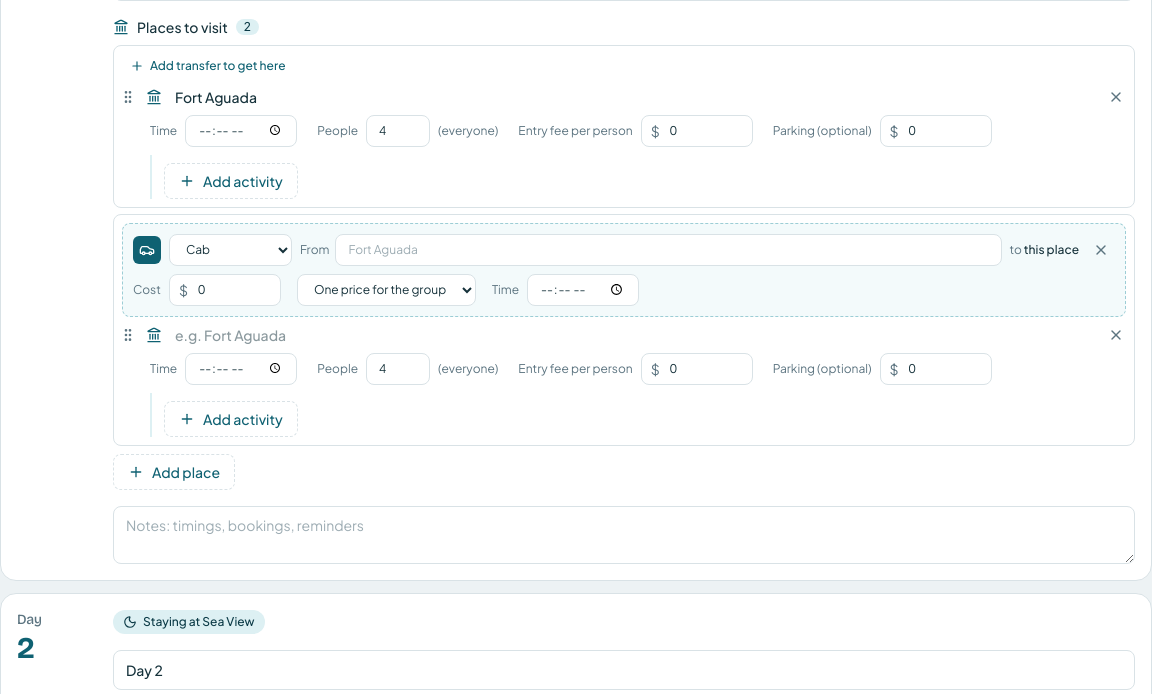
Scenario: Choosing a hotel as a stop or a transfer start › filters suggestions as you type and still accepts free text
The image size is (1152, 694).
(page scrolled)
Type "city" into the dropdown named "Day 1 place 2".
click(632, 334); type("city")  # box [166, 316, 1098, 352]
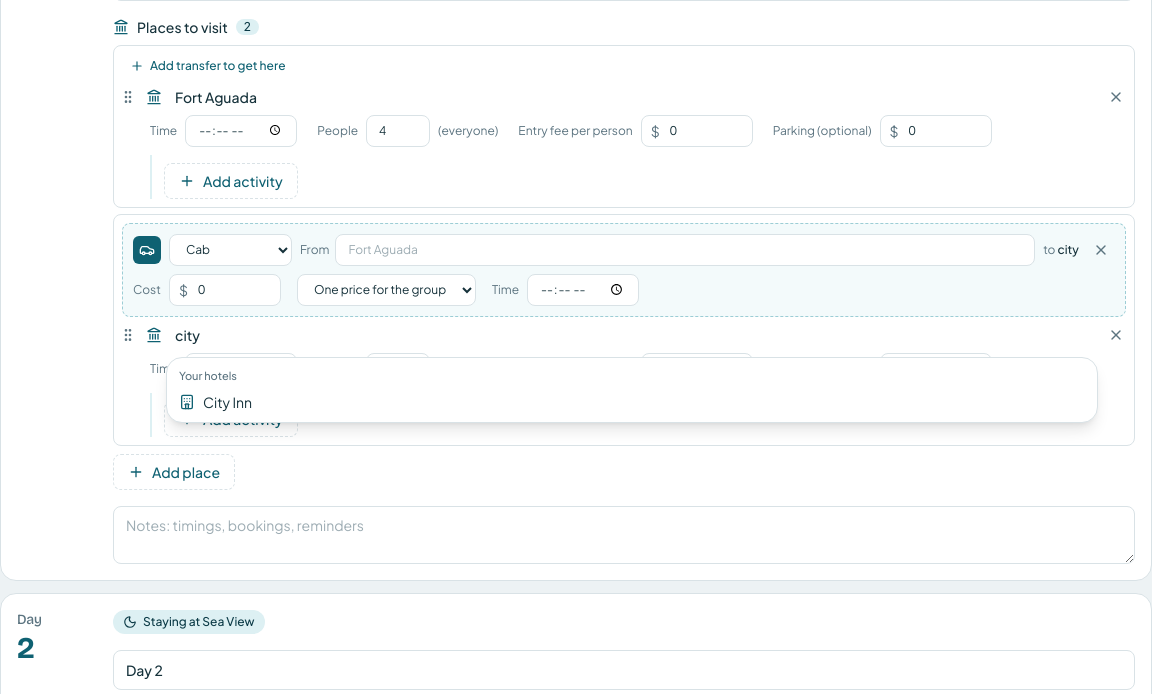
Now the options read "City Inn", in this order, box [179, 393, 252, 411]
Replace the text in the dropdown named "Day 1 place 2" with "Hotel California" at coordinates (632, 334), box [166, 316, 1098, 352]
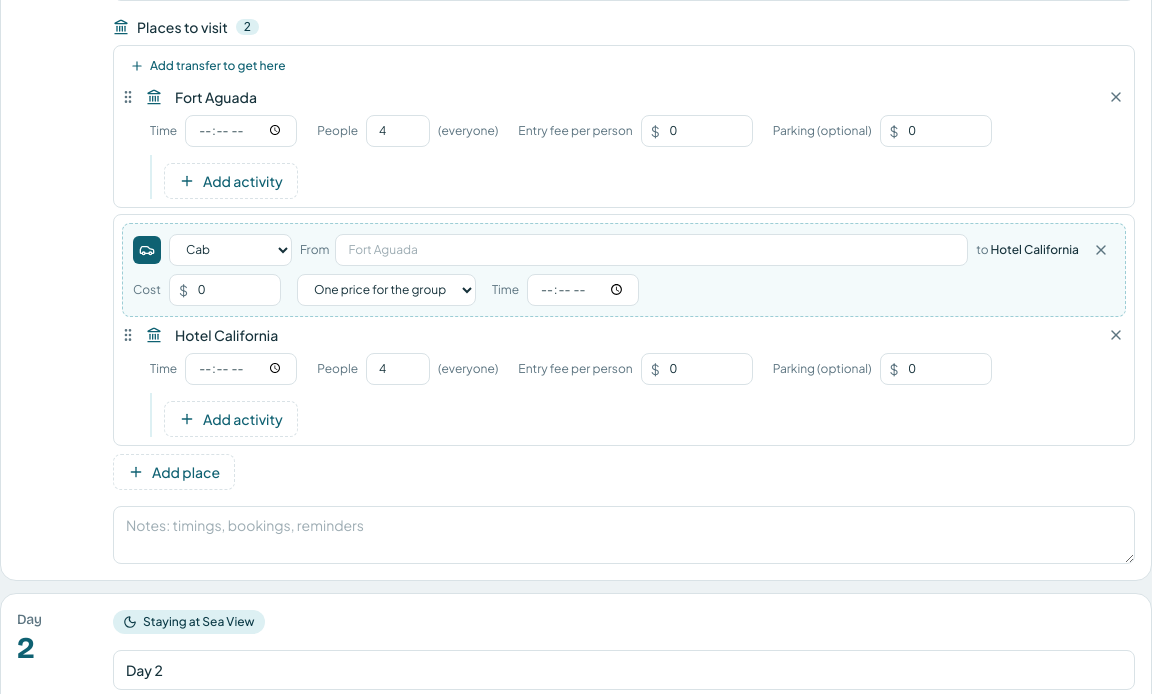
Now the text "Hotel California" is shown, box [990, 242, 1079, 256]
